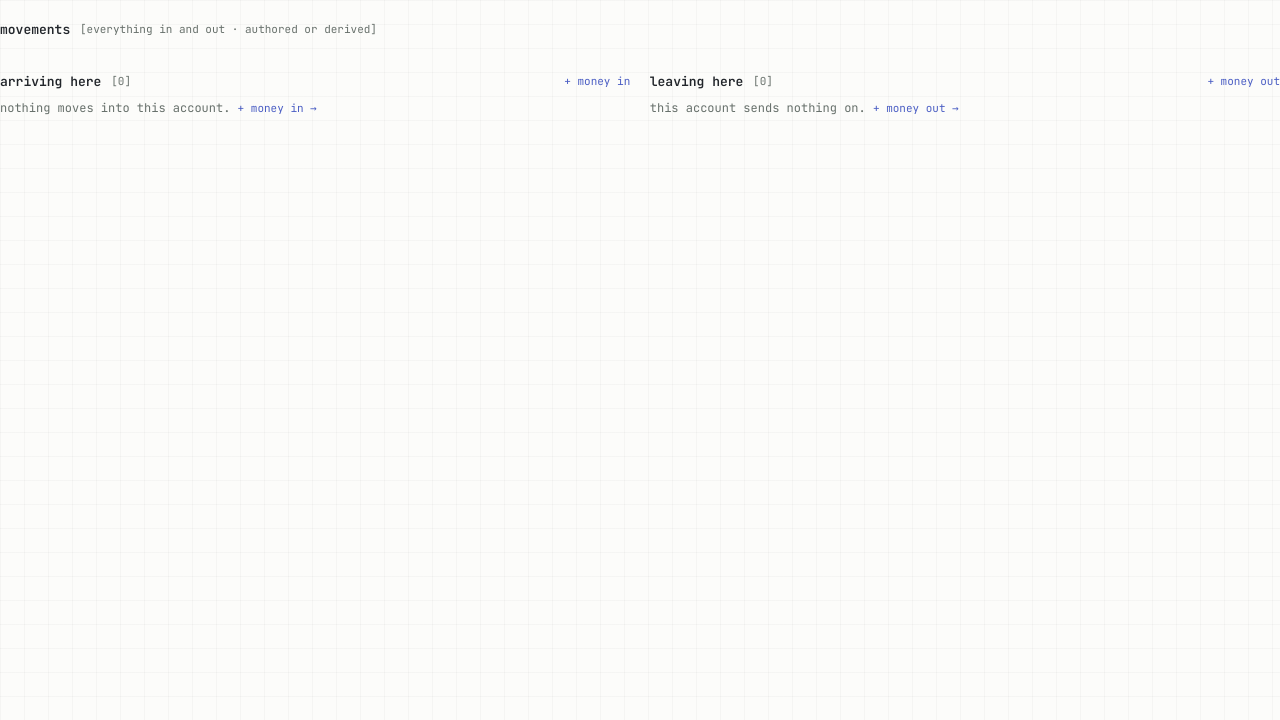
Test: AccountMovements — authoring › says a 404 the same way however the account came to be missing
Click the button "+ money in →" at (277, 109), box left=238, top=100, right=317, bottom=117
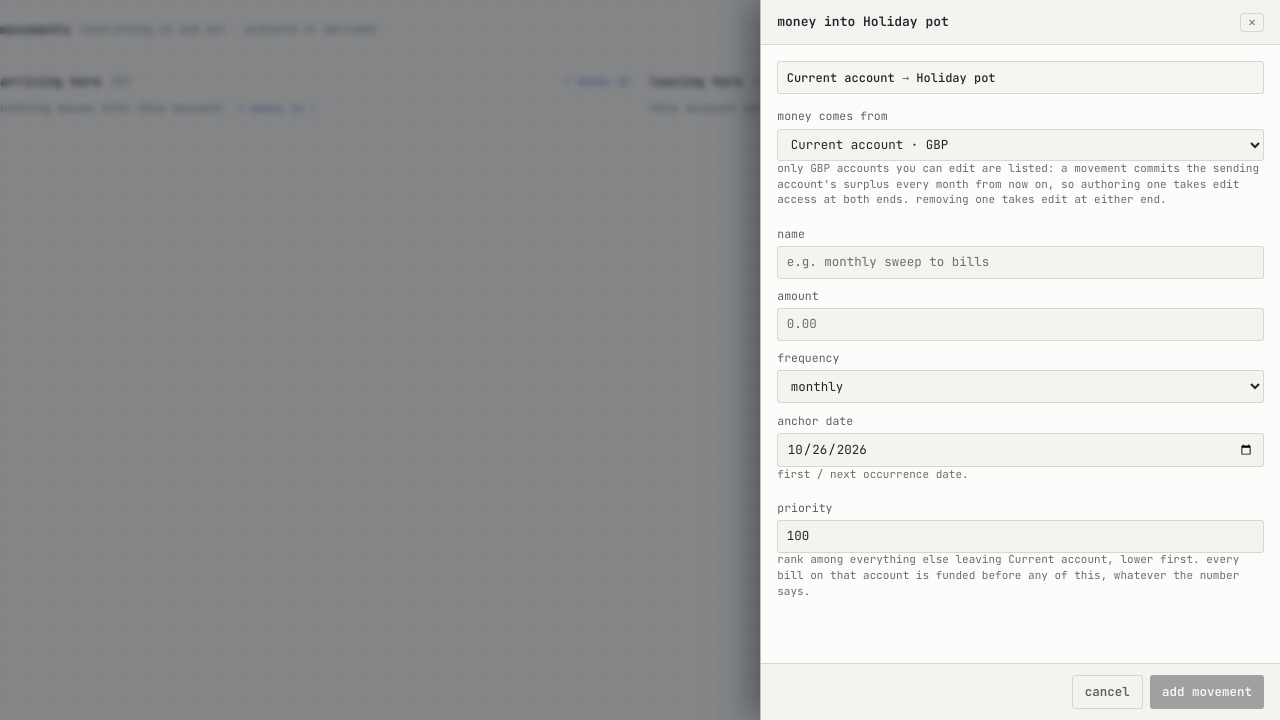
Type "Bills sweep" into the field with placeholder "e.g. monthly sweep to bills" at (1021, 263), box left=777, top=246, right=1264, bottom=279
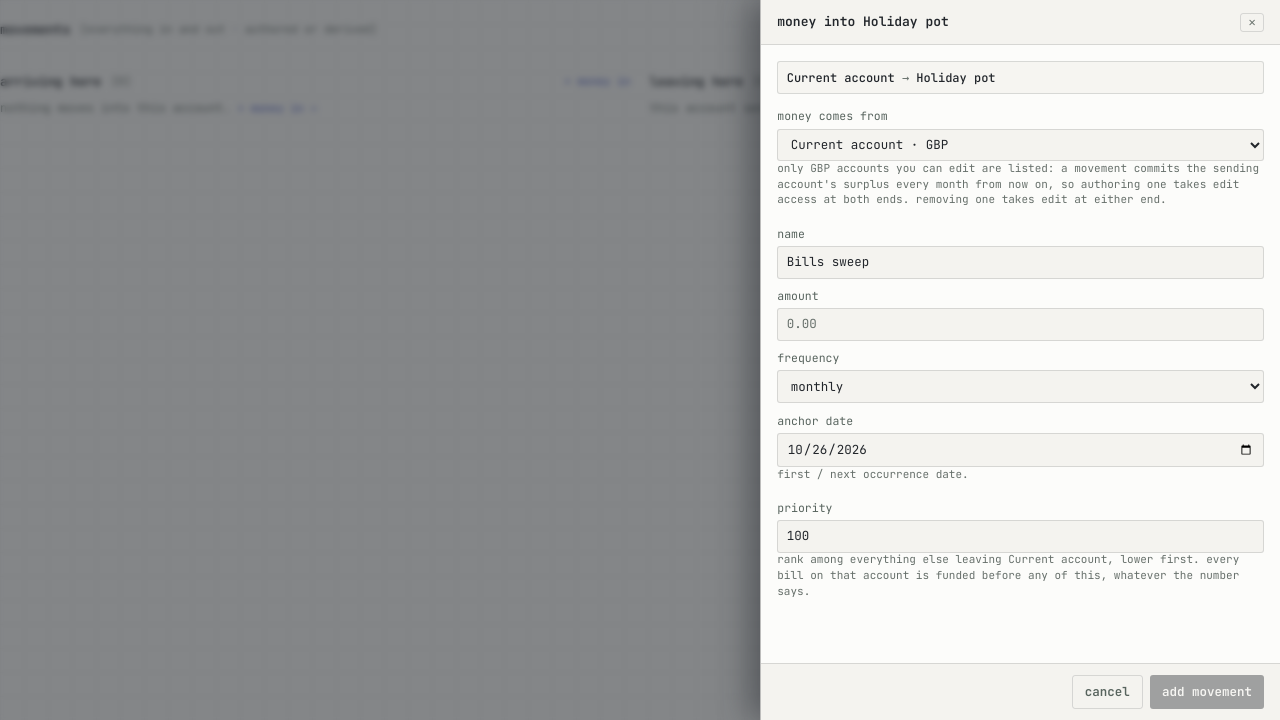
Type "400" into the field with placeholder "0.00" at (1021, 325), box left=777, top=308, right=1264, bottom=341
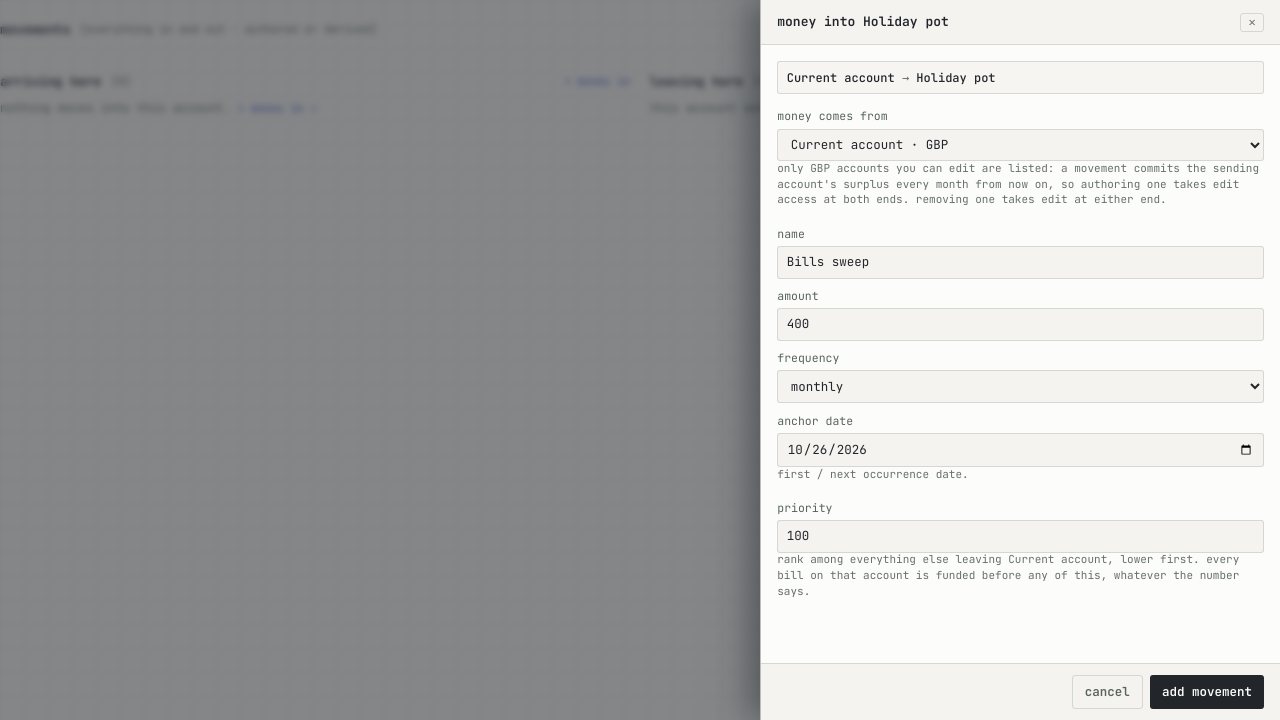
Click the button "add movement" at (1207, 692), box left=1150, top=675, right=1264, bottom=709
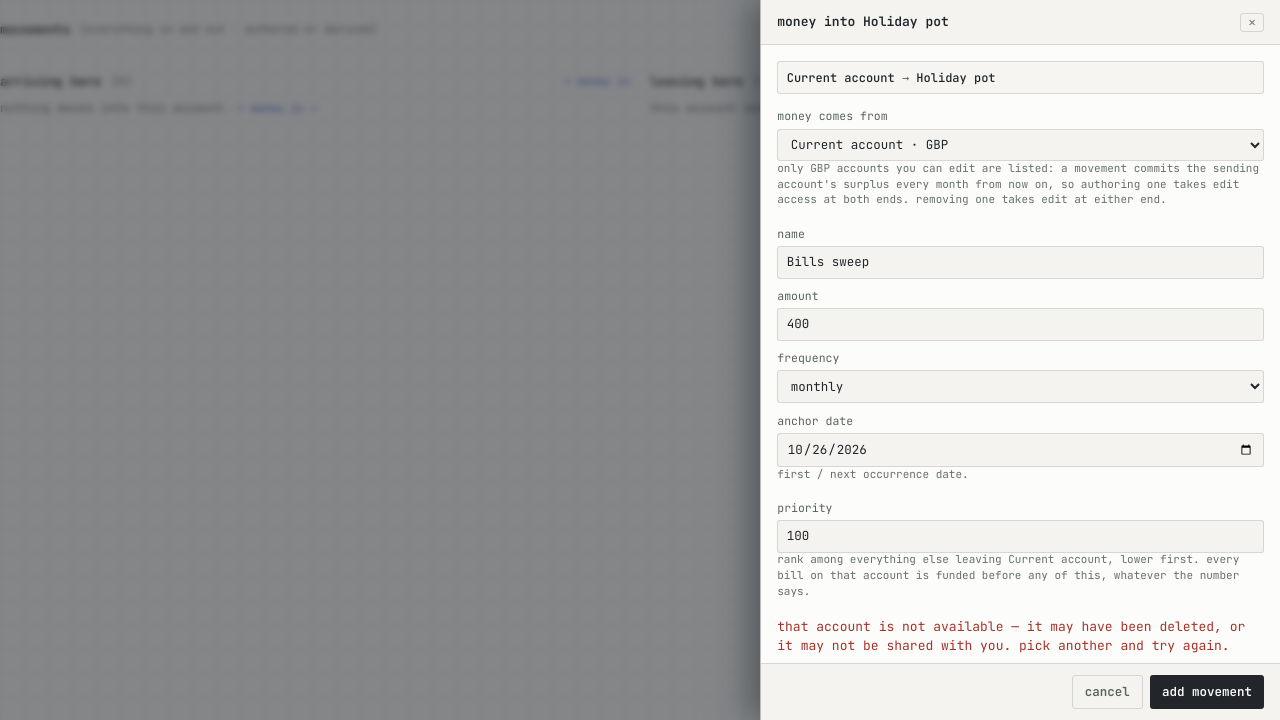
Result: the message shows "that account is not available — it may have been deleted, or it may not be shared with you." at left=777, top=618, right=1245, bottom=654
